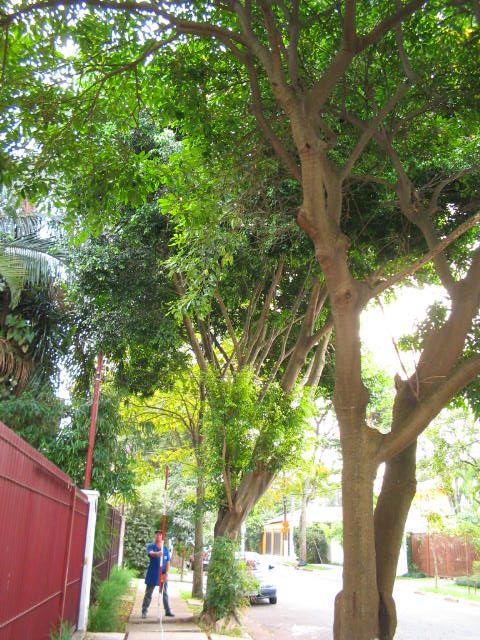stem: (199, 509, 256, 624)
stick: (151, 464, 171, 620)
